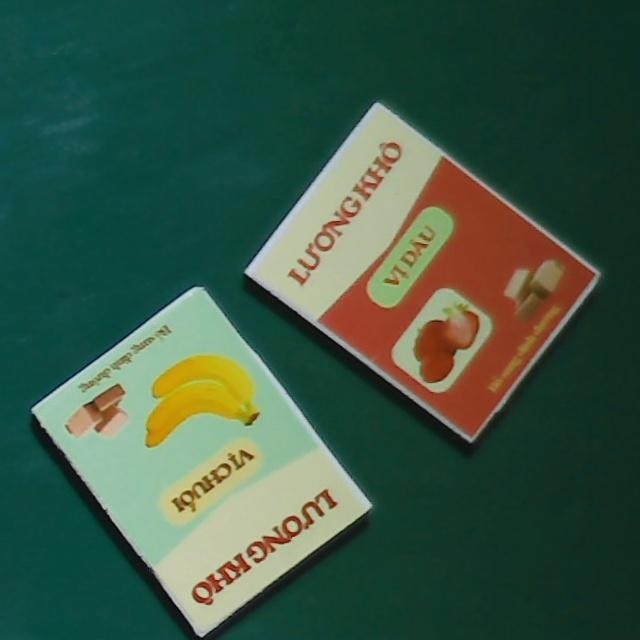chuoi: (28, 280, 374, 640)
dau: (243, 99, 604, 447)
